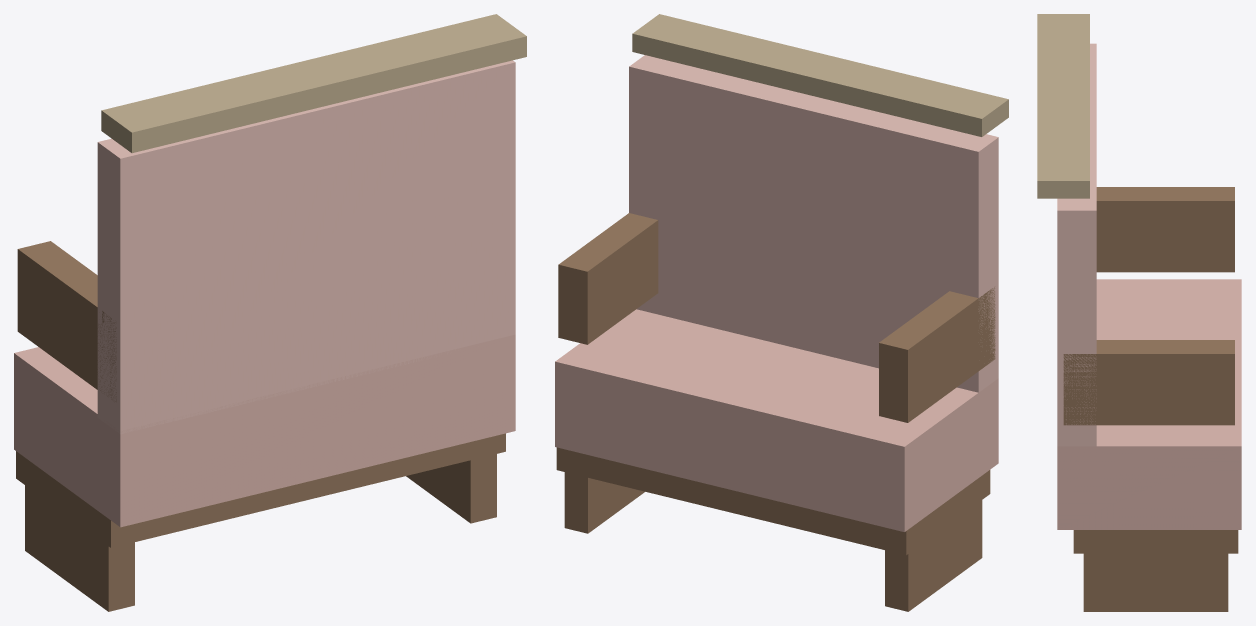
Rendered from carriage_seat.glb.
3 views of the same model, side by side, from view 1: azimuth 30°, elevation 25°; view 2: azimuth 150°, elevation 25°; view 3: azimuth 270°, elevation 25° (orthographic). The views are drawn at different scales.
Visible parts, largest first — view 1: Carriage_seat; view 2: Carriage_seat; view 3: Carriage_seat.
Part boxes in pixels (x1,y1,x2,y2): Carriage_seat: [14, 14, 526, 611]; Carriage_seat: [555, 14, 1008, 611]; Carriage_seat: [1037, 14, 1241, 611].
Bounding box in the file's own units: 1.2 × 1.45 × 0.62.
